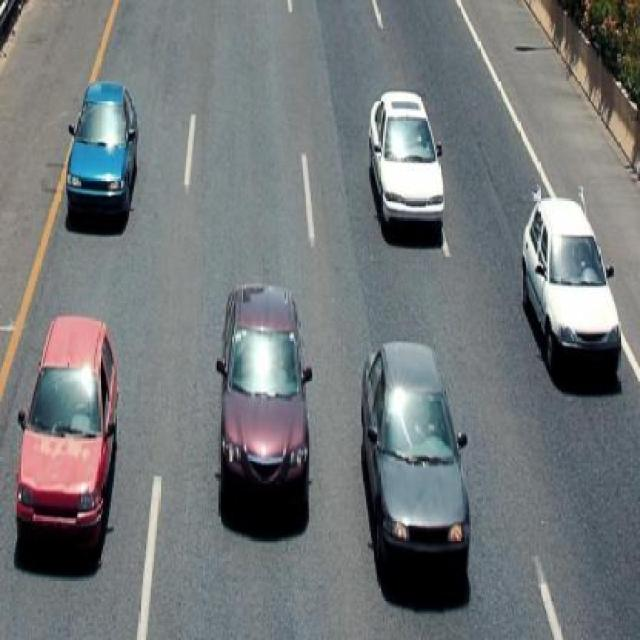car: (366, 346, 480, 568), (12, 313, 96, 555), (218, 288, 308, 510), (521, 190, 624, 379), (369, 89, 450, 243), (77, 72, 135, 224)
